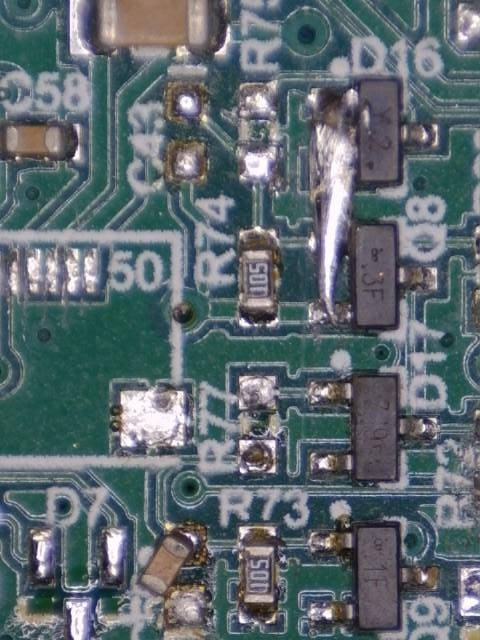pcb_defect: (309, 90, 359, 315), (138, 524, 207, 625)
